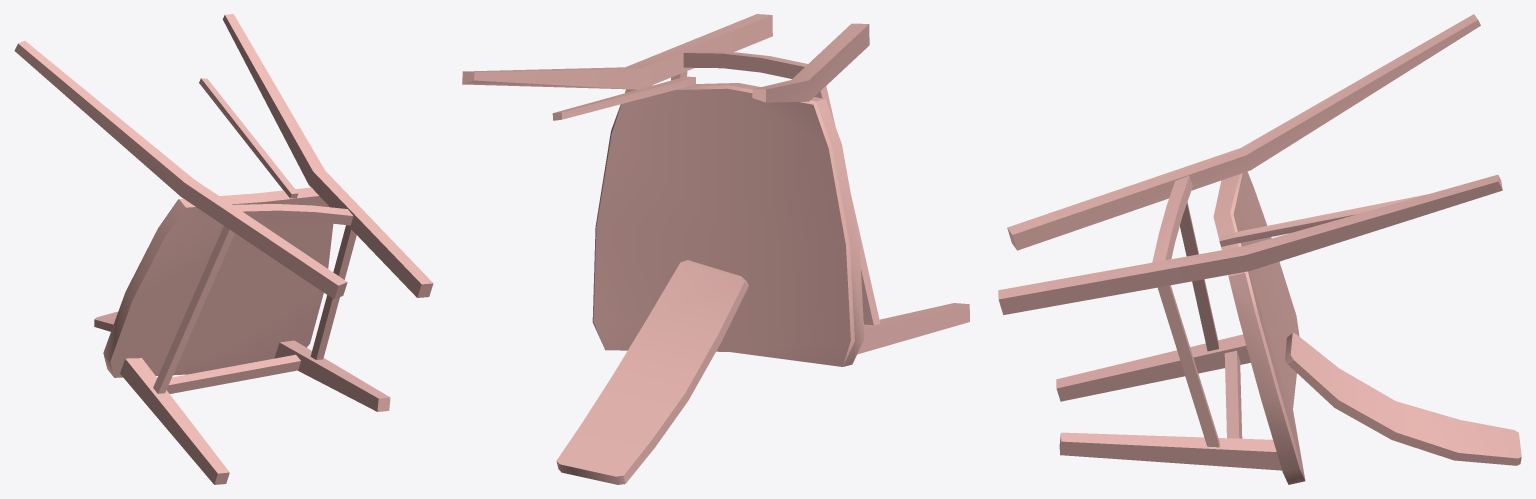
File: chairbreak1.fbx
The picture shows the model from 3 angles, left to right: view 1: azimuth 30°, elevation 25°; view 2: azimuth 150°, elevation 25°; view 3: azimuth 270°, elevation 25°; orthographic projection. The views are drawn at different scales.
Parts seen in each view (by area): view 1: chair_02_br; view 2: chair_02_br; view 3: chair_02_br.
Part boxes in pixels (bbox=[...]): chair_02_br: bbox=[14, 14, 433, 484]; chair_02_br: bbox=[462, 14, 969, 484]; chair_02_br: bbox=[998, 14, 1521, 484].
Size of the model in its own units: 107 by 143 by 182.
